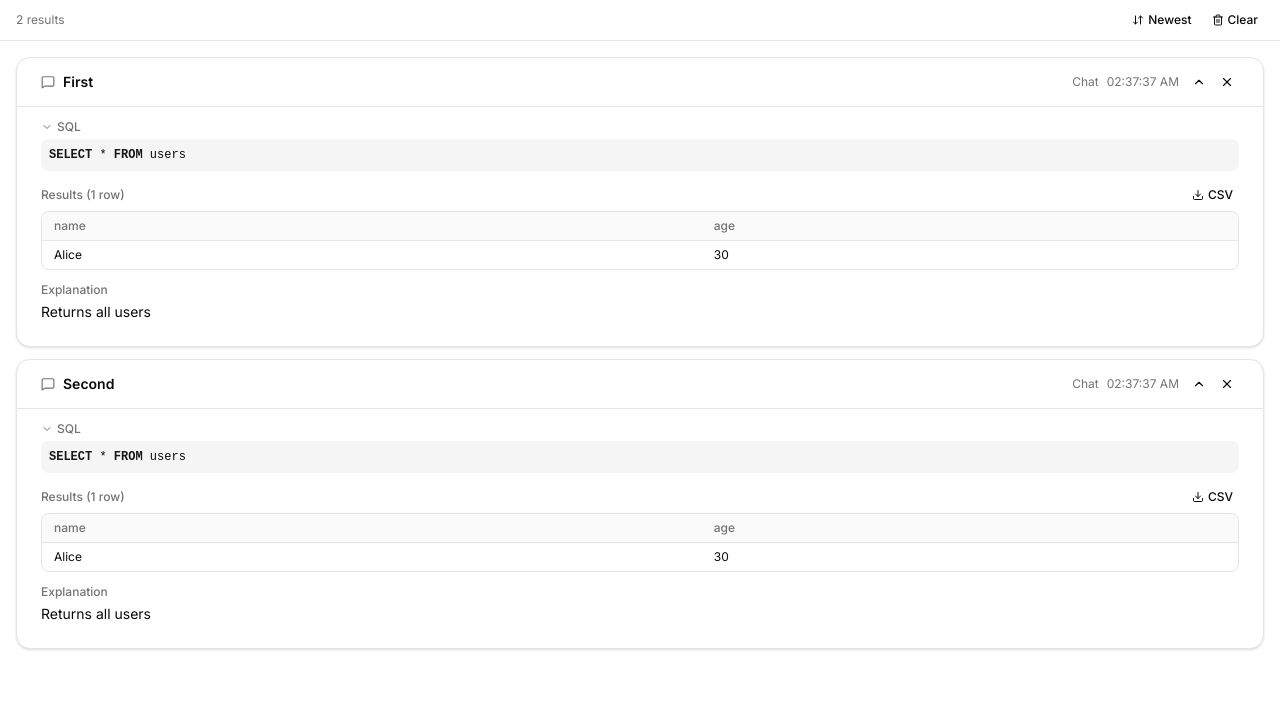
Test: ResultsPanel › can toggle sort order
Expected: the text "Newest" is shown, [1148, 12, 1192, 28]
Click the button with test id "toggle-sort-order".
click(1162, 20)  # box [1126, 8, 1198, 32]
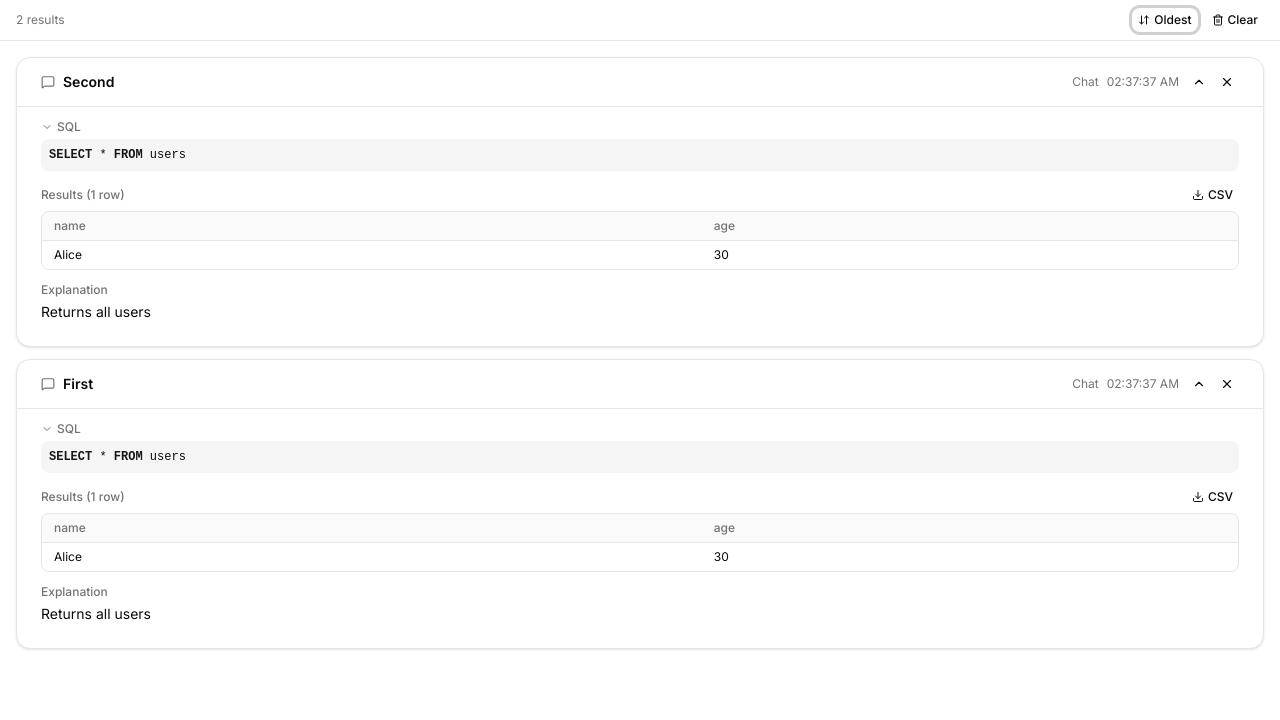
Expected: the text "Oldest" is shown, [1154, 12, 1192, 28]
